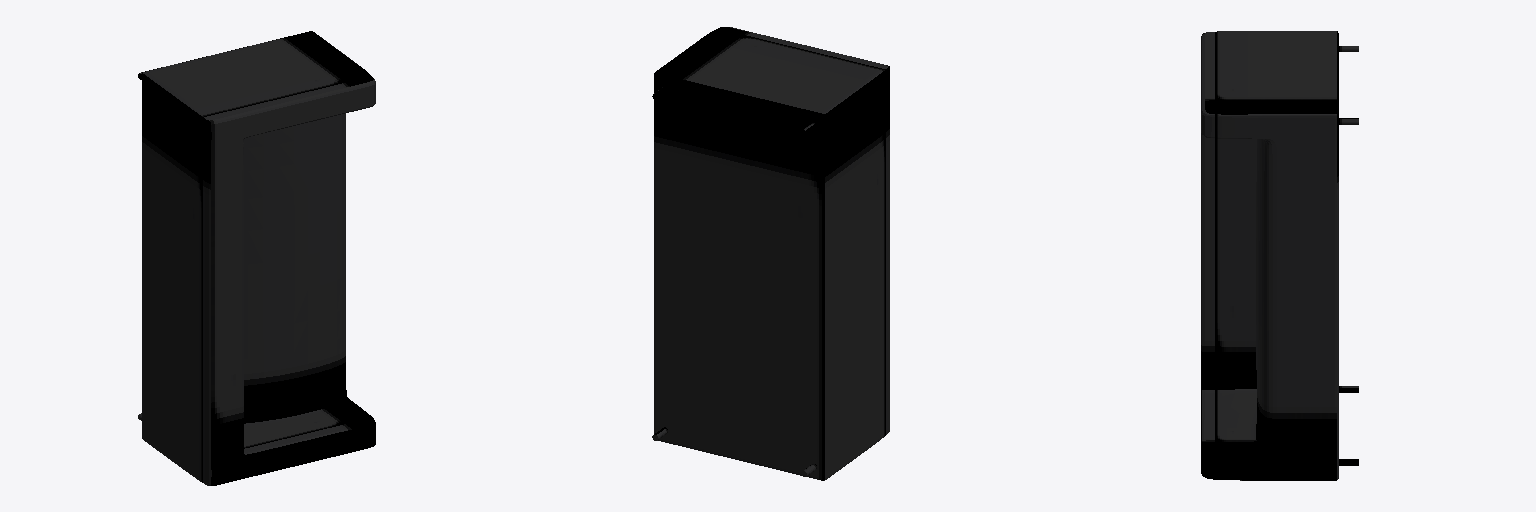
The picture shows the model from 3 angles: view 1: azimuth 30°, elevation 25°; view 2: azimuth 150°, elevation 25°; view 3: azimuth 270°, elevation 25°; orthographic projection.
Size of the model in its own units: 0.8786 by 1.79 by 0.6968.
1 materials, 1 textured.